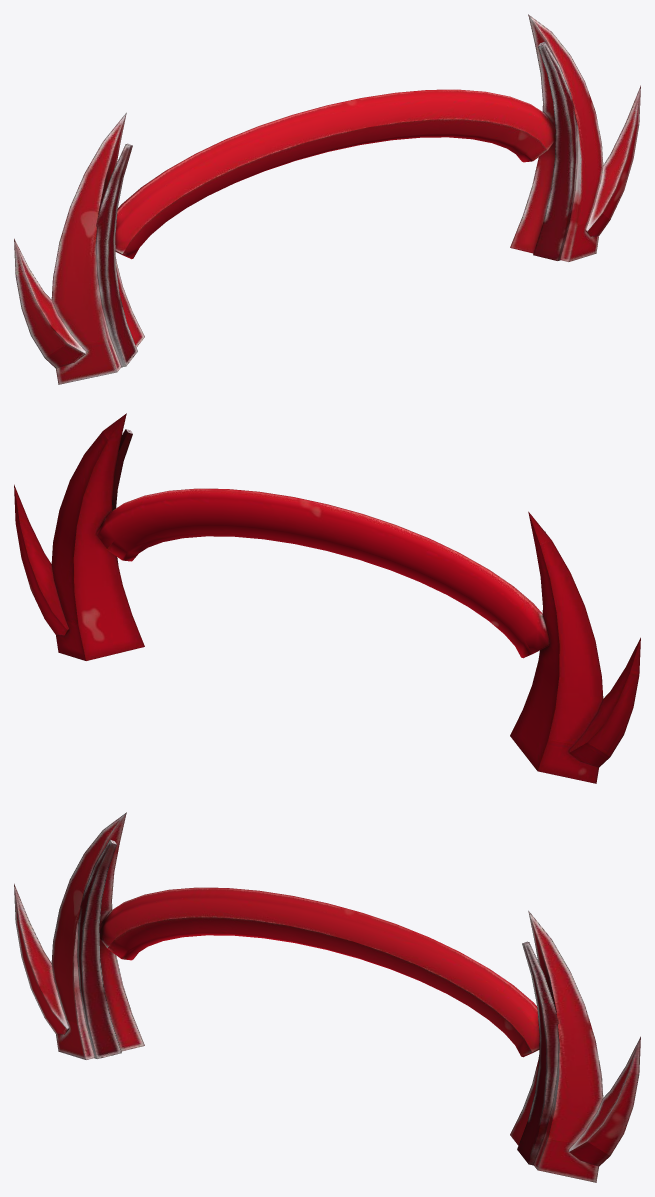
The model's file is 09_002_scarlet_horns.glb.
3 renders of one model, top to bottom at view 1: azimuth 30°, elevation 25°; view 2: azimuth 150°, elevation 25°; view 3: azimuth 330°, elevation 25°, orthographic.
Parts seen in each view (by area): view 1: ScarletHorns; view 2: ScarletHorns; view 3: ScarletHorns.
Boxes of the visible parts, x1=… form: ScarletHorns: x1=14, y1=14, x2=640, y2=384; ScarletHorns: x1=14, y1=413, x2=640, y2=783; ScarletHorns: x1=14, y1=812, x2=640, y2=1182.
Bounding box in the file's own units: 0.4291 × 0.1675 × 0.0371.
Materials: 1 (1 with a texture image).
